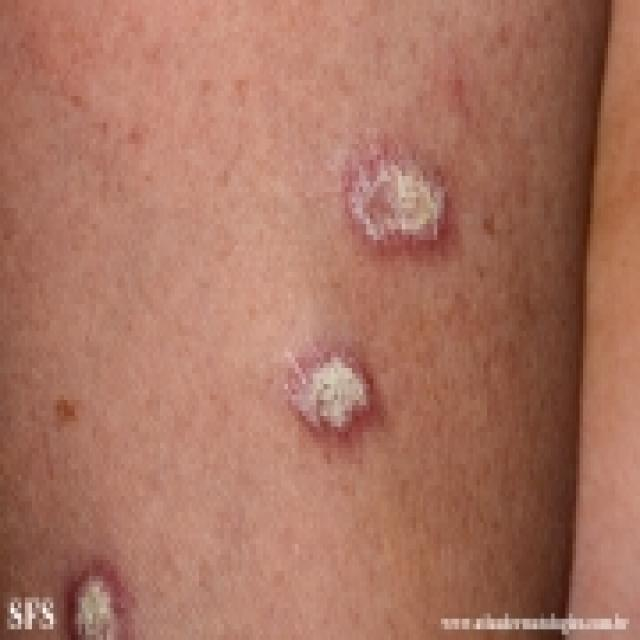lupus: (282, 131, 455, 473), (66, 553, 124, 640)
